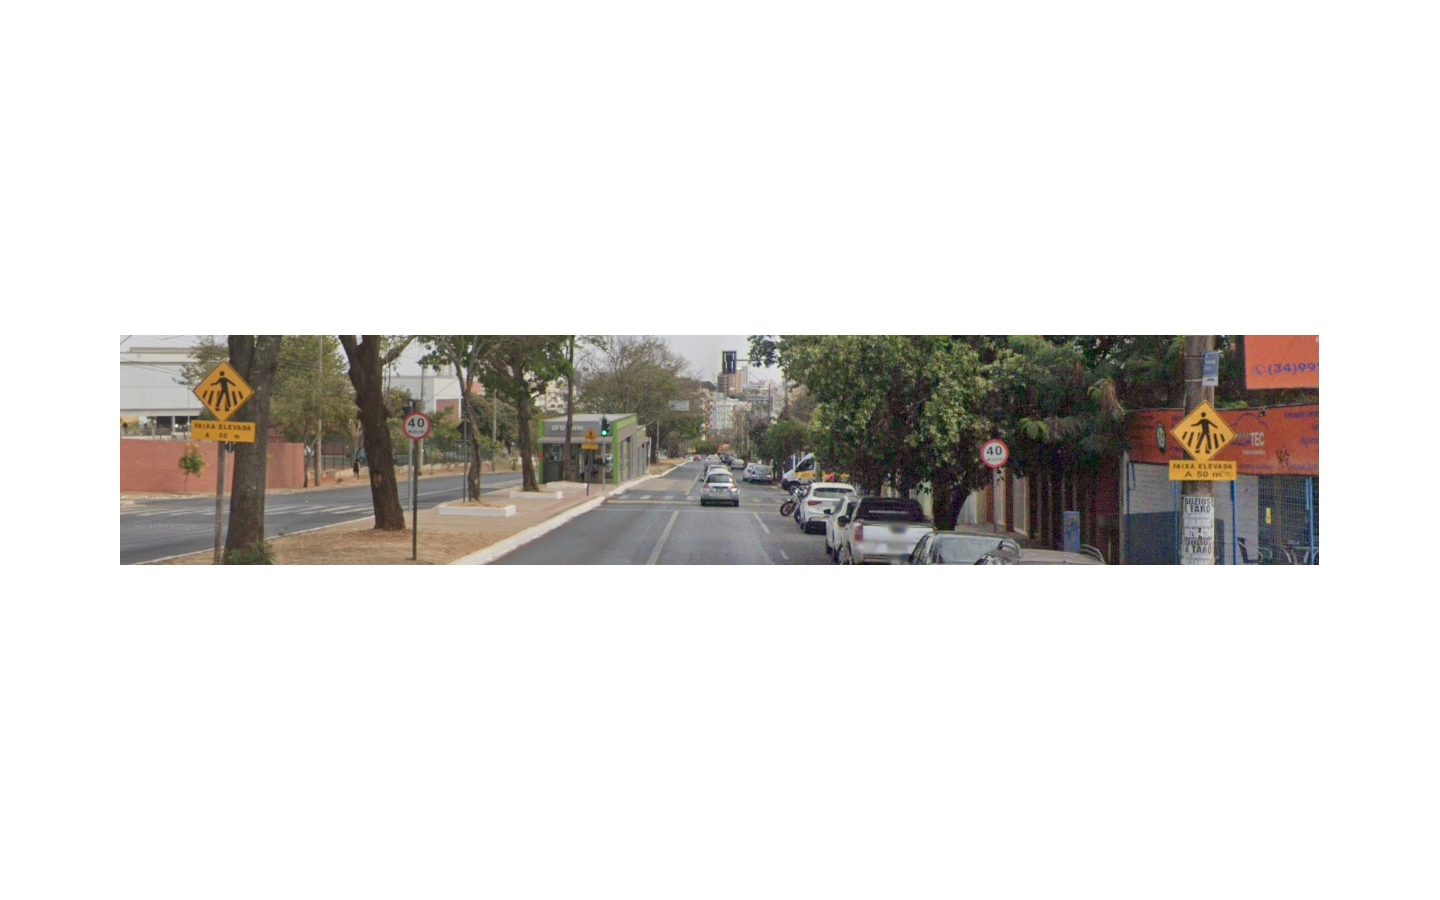t50m: (1168, 399, 1237, 481), (191, 361, 255, 443)
